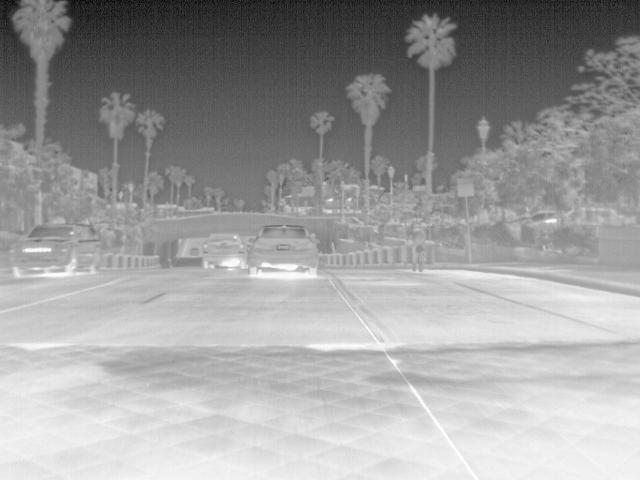car: (9, 221, 105, 278), (244, 225, 320, 276), (201, 231, 247, 271), (189, 244, 202, 257)
person: (410, 223, 427, 264)
